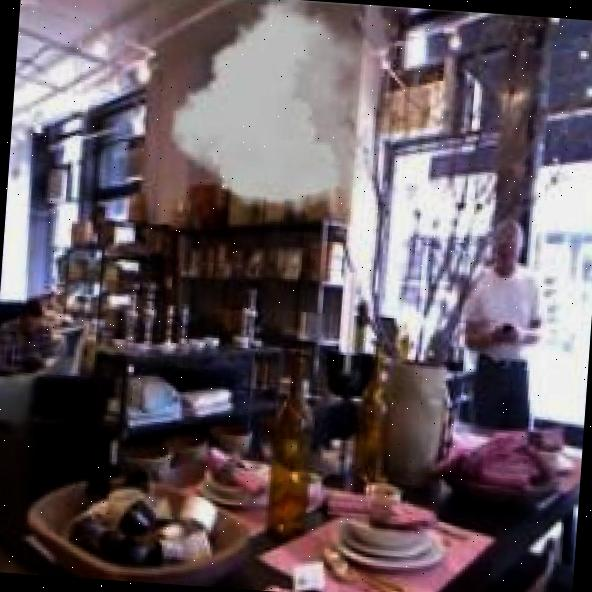smoke: (164, 0, 382, 220)
